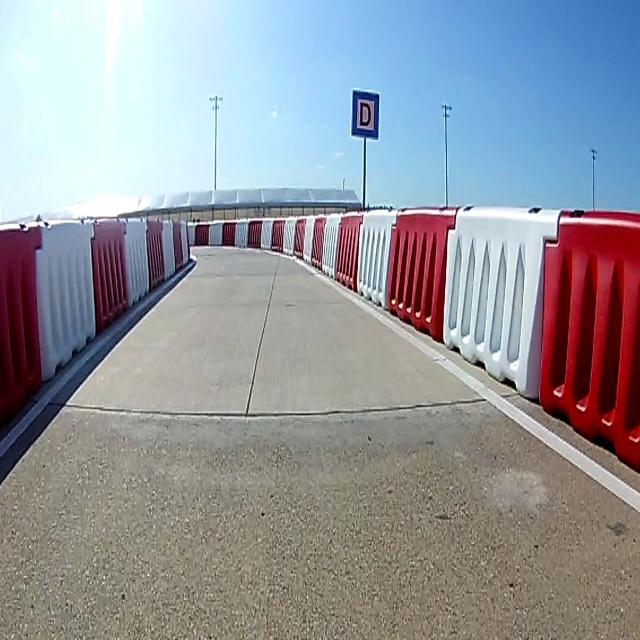durak: (351, 88, 380, 138)
